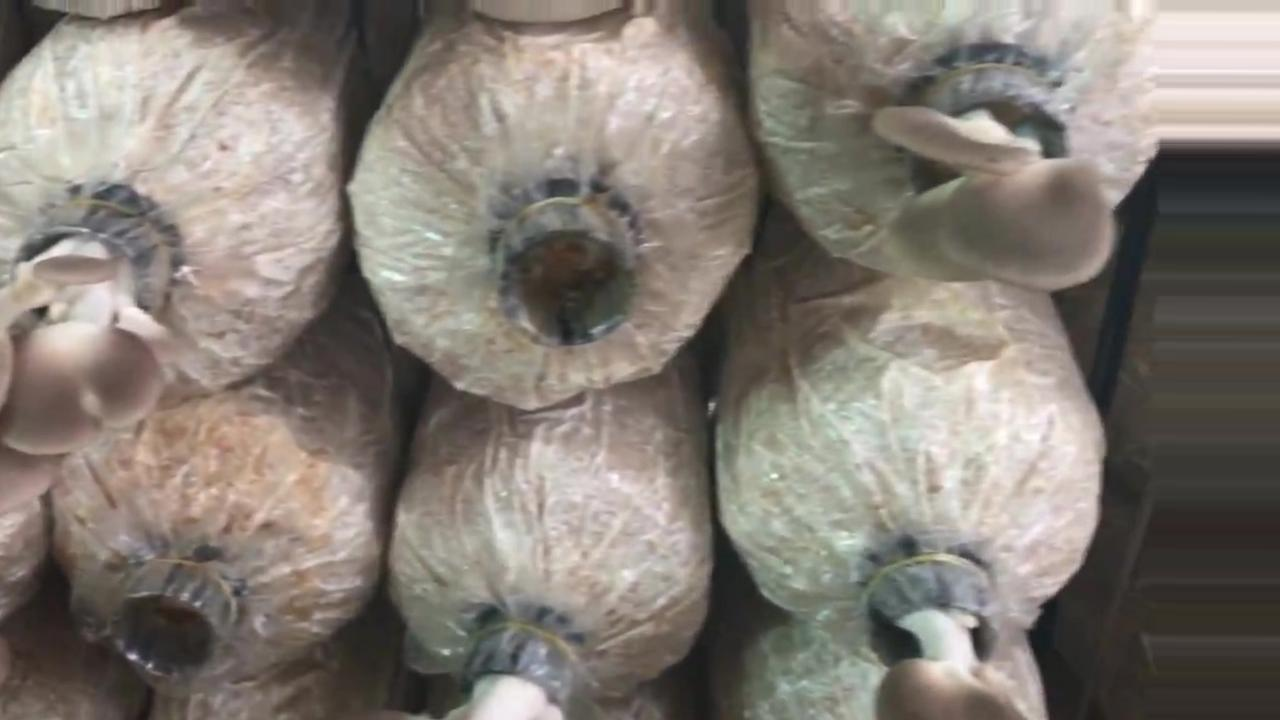nam: (871, 48, 1124, 296), (1, 193, 186, 460), (871, 552, 1029, 720)
